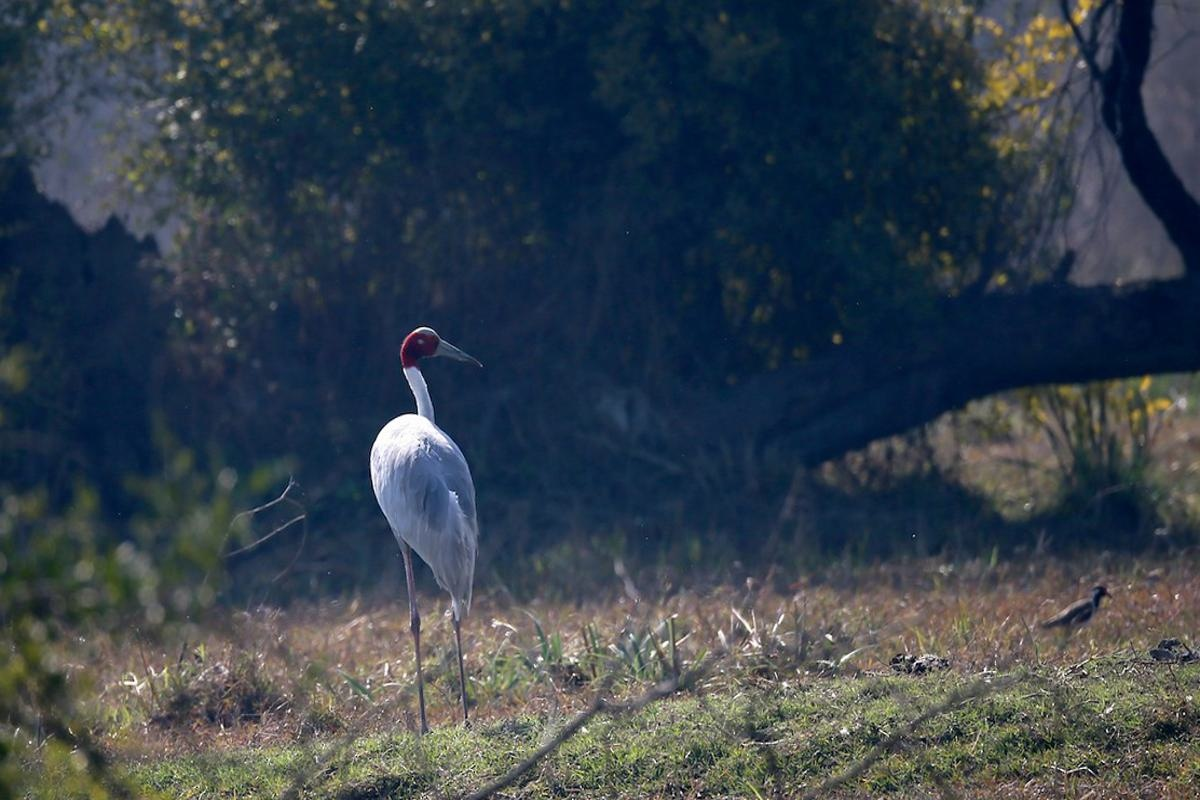crane: (365, 305, 516, 751)
